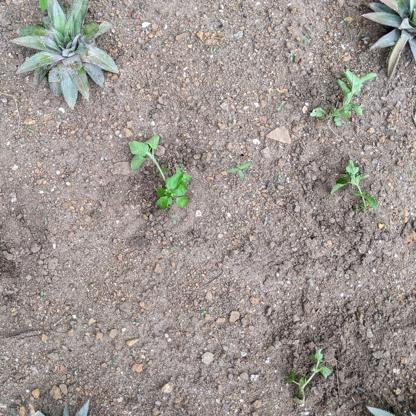pineapple: (8, 1, 121, 110), (359, 1, 416, 78)
weed: (127, 134, 191, 213), (308, 67, 378, 127), (330, 157, 383, 219), (283, 345, 333, 400)
